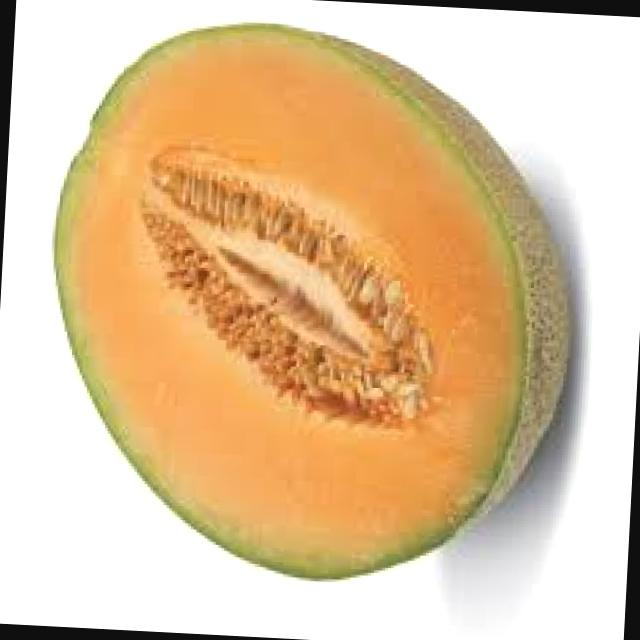cantaloupe: (34, 11, 592, 594)
